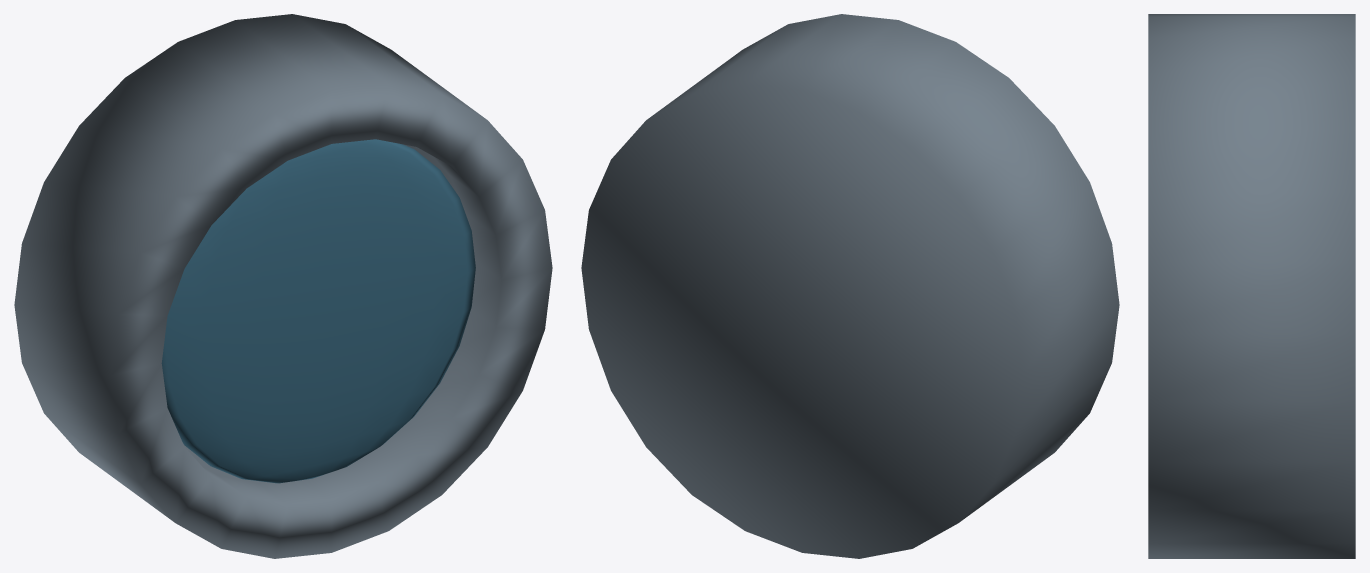
The model's file is liciacube.leia.glb.
3 views of the same model, side by side, from view 1: azimuth 30°, elevation 25°; view 2: azimuth 150°, elevation 25°; view 3: azimuth 270°, elevation 25° (orthographic). The views are drawn at different scales.
Parts seen in each view (by area): view 1: liciacube.leia.mesh_Machined_steel, liciacube.leia.lens.mesh_Coated_optical_glass; view 2: liciacube.leia.mesh_Machined_steel; view 3: liciacube.leia.mesh_Machined_steel.
Boxes of the visible parts, left/top/right/bottom form: liciacube.leia.mesh_Machined_steel: left=14, top=14, right=552, bottom=558; liciacube.leia.lens.mesh_Coated_optical_glass: left=161, top=139, right=475, bottom=483; liciacube.leia.mesh_Machined_steel: left=581, top=14, right=1119, bottom=558; liciacube.leia.mesh_Machined_steel: left=1148, top=14, right=1355, bottom=558.
Bounding box in the file's own units: 0.066 × 0.066 × 0.025.
